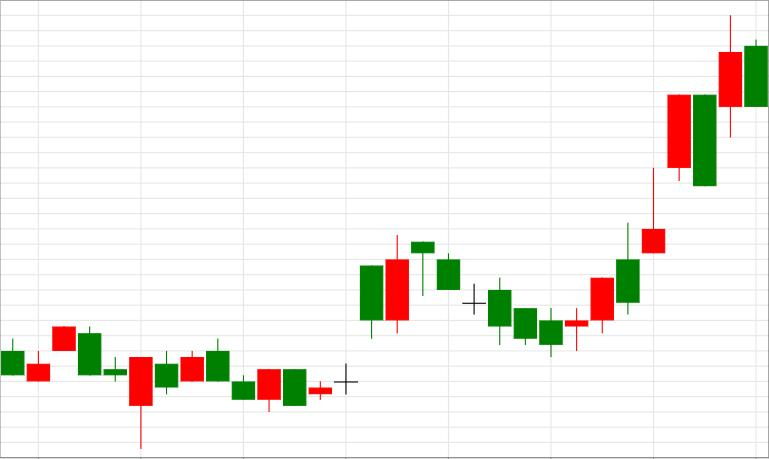bearish_engulfing_fall: (565, 94, 716, 351)
evening_star_fall: (283, 234, 459, 406)
shooting_star_fall: (564, 168, 666, 351)
